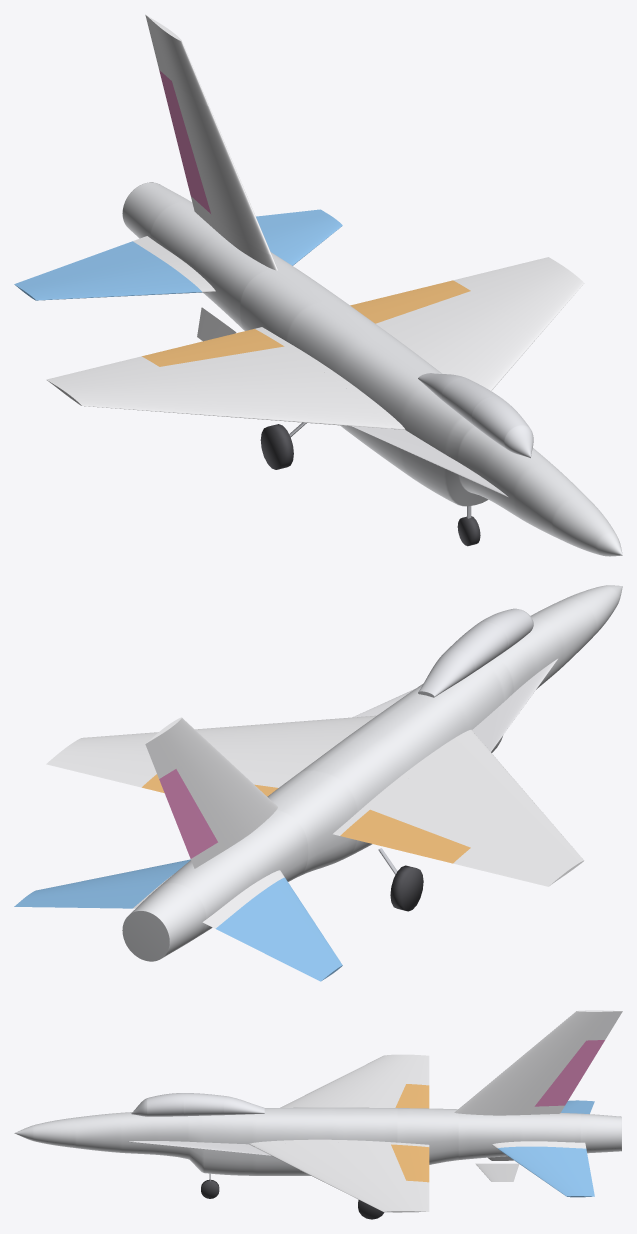
The picture shows the model from 3 angles, top to bottom: view 1: azimuth 30°, elevation 25°; view 2: azimuth 150°, elevation 25°; view 3: azimuth 270°, elevation 25°; orthographic projection. The views are drawn at different scales.
Visible parts, largest first — view 1: fuselage, wing, fin, fsim:elevator+aileron:-0.25, canopy, fsim:elevator+aileron:0.25, fsim:aileron+flaps:-1, fsim:aileron+flaps:1, strake, fsim:rudder, Right Main Gear, htail (+1 smaller); view 2: fuselage, wing, fin, fsim:elevator+aileron:-0.25, canopy, fsim:elevator+aileron:0.25, fsim:aileron+flaps:-1, fsim:rudder, strake, Right Main Gear, htail; view 3: fuselage, wing, fin, fsim:elevator+aileron:0.25, canopy, fsim:rudder, fsim:aileron+flaps:1, strake, ventral, fsim:aileron+flaps:-1, htail, fsim:elevator+aileron:-0.25 (+2 smaller).
Part boxes in pixels (x1=…): fuselage: x1=122, y1=182, x2=622, y2=556; wing: x1=46, y1=257, x2=584, y2=429; fin: x1=145, y1=14, x2=277, y2=270; fsim:elevator+aileron:-0.25: x1=14, y1=241, x2=202, y2=300; canopy: x1=418, y1=373, x2=533, y2=457; fsim:elevator+aileron:0.25: x1=256, y1=209, x2=342, y2=265; fsim:aileron+flaps:-1: x1=142, y1=329, x2=284, y2=366; fsim:aileron+flaps:1: x1=350, y1=280, x2=470, y2=323; strake: x1=351, y1=426, x2=508, y2=497; fsim:rudder: x1=159, y1=70, x2=210, y2=213; Right Main Gear: x1=260, y1=422, x2=306, y2=469; htail: x1=133, y1=236, x2=215, y2=292; fuselage: x1=122, y1=585, x2=622, y2=961; wing: x1=46, y1=715, x2=584, y2=886; fin: x1=145, y1=717, x2=277, y2=868; fsim:elevator+aileron:-0.25: x1=215, y1=877, x2=342, y2=981; canopy: x1=418, y1=608, x2=533, y2=697; fsim:elevator+aileron:0.25: x1=14, y1=859, x2=190, y2=908; fsim:aileron+flaps:-1: x1=340, y1=809, x2=470, y2=863; fsim:rudder: x1=159, y1=769, x2=217, y2=858; strake: x1=352, y1=659, x2=557, y2=751; Right Main Gear: x1=378, y1=848, x2=423, y2=911; htail: x1=133, y1=870, x2=284, y2=928; fuselage: x1=14, y1=1107, x2=621, y2=1175; wing: x1=249, y1=1054, x2=429, y2=1212; fin: x1=454, y1=1010, x2=622, y2=1115; fsim:elevator+aileron:0.25: x1=497, y1=1146, x2=594, y2=1197; canopy: x1=131, y1=1093, x2=264, y2=1116; fsim:rudder: x1=534, y1=1040, x2=604, y2=1106; fsim:aileron+flaps:1: x1=391, y1=1144, x2=429, y2=1182; strake: x1=128, y1=1141, x2=270, y2=1155; ventral: x1=475, y1=1156, x2=519, y2=1181; fsim:aileron+flaps:-1: x1=395, y1=1084, x2=429, y2=1108; htail: x1=492, y1=1141, x2=586, y2=1148; fsim:elevator+aileron:-0.25: x1=561, y1=1100, x2=594, y2=1113.
Size of the model in its own units: 9.14 by 5.09 by 15.05.
